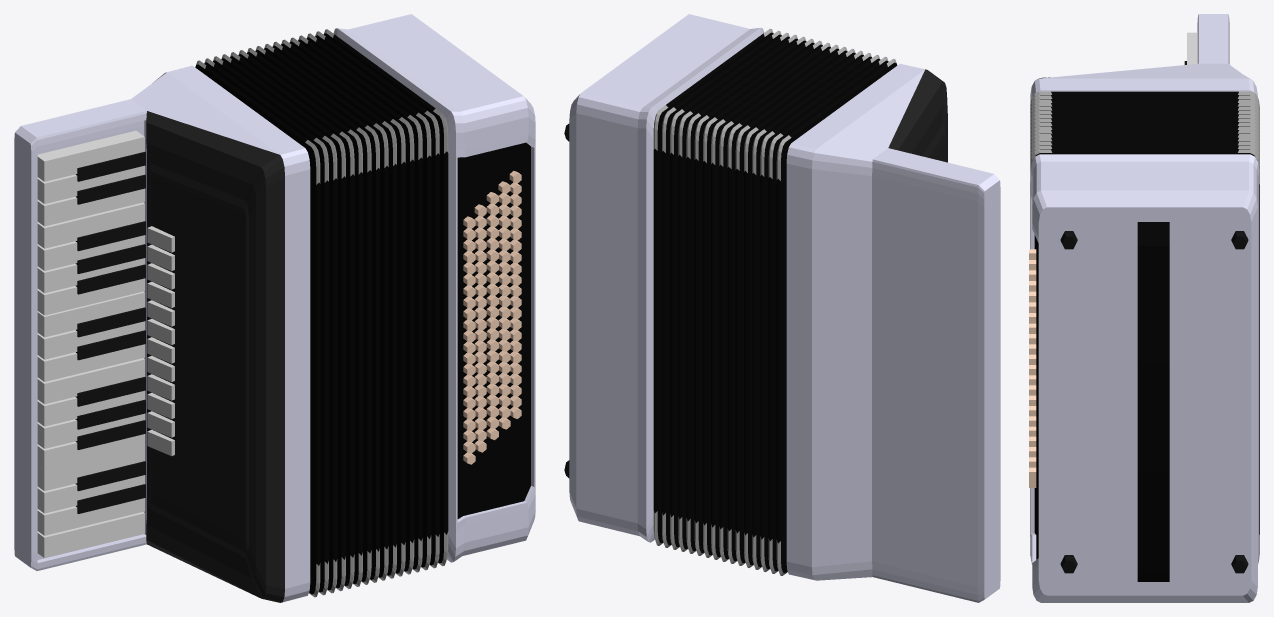
The model's file is Accordion06.fbx.
3 views of the same model, side by side, from view 1: azimuth 30°, elevation 25°; view 2: azimuth 150°, elevation 25°; view 3: azimuth 270°, elevation 25° (orthographic). The views are drawn at different scales.
Parts seen in each view (by area): view 1: Cube.009; view 2: Cube.009; view 3: Cube.009.
Boxes of the visible parts, <box> form: Cube.009: <box>14,14,535,602</box>; Cube.009: <box>564,14,1000,602</box>; Cube.009: <box>1029,14,1259,602</box>.
Size of the model in its own units: 57.38 by 54.85 by 27.33.
